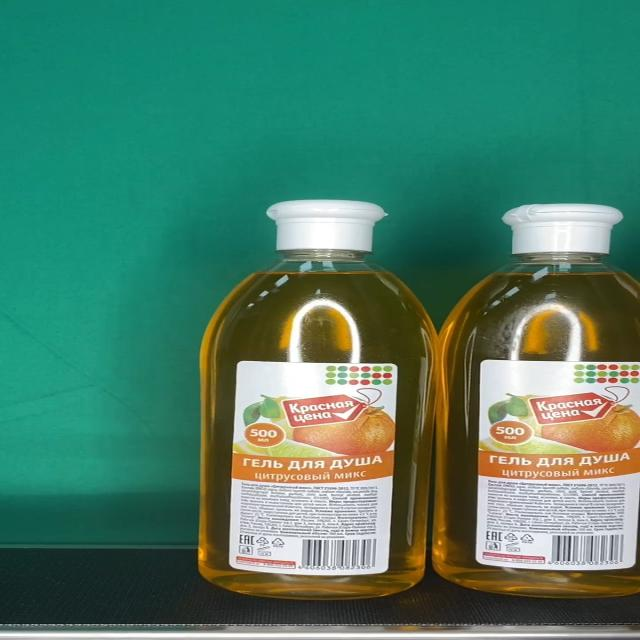Bottle: (198, 202, 440, 600), (432, 201, 640, 600)
Cap: (502, 203, 624, 254), (266, 202, 386, 252)
